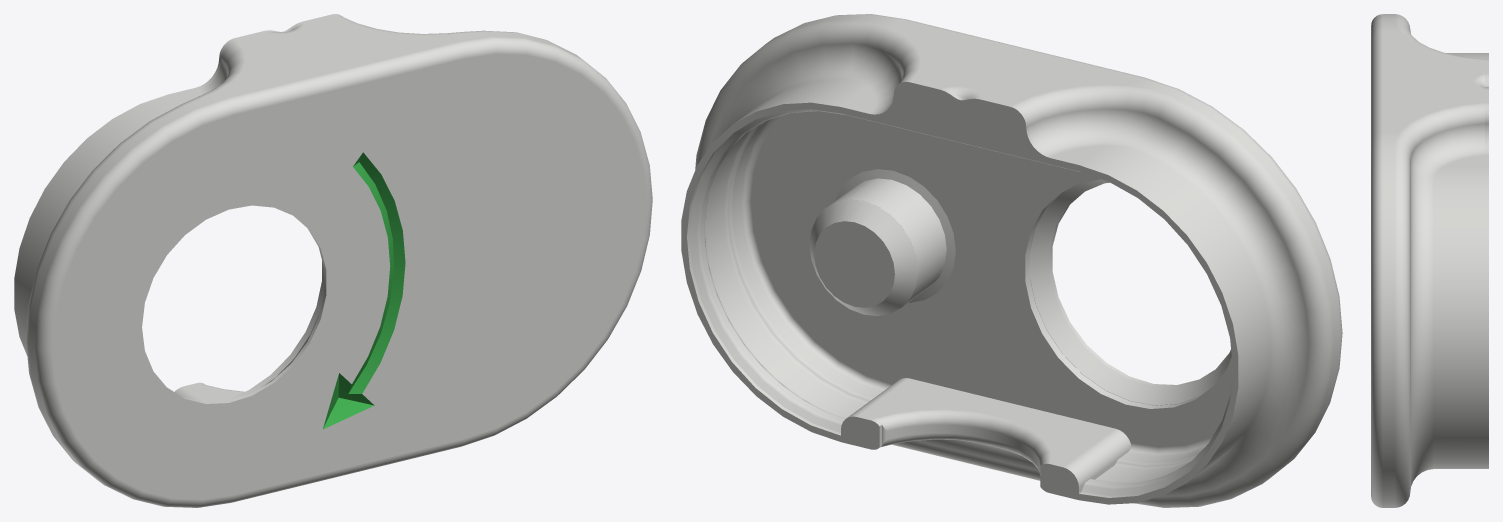
Rendered from P02 - Body Top v1.0 (0.2 Layer Height).obj.
3 renders of one model, left to right at view 1: azimuth 30°, elevation 25°; view 2: azimuth 150°, elevation 25°; view 3: azimuth 270°, elevation 25°, orthographic. The views are drawn at different scales.
Parts seen in each view (by area): view 1: Body5; view 2: Body5; view 3: Body5.
Part boxes in pixels (x1,y1,x2,y2): Body5: (14,14,652,507); Body5: (681,14,1342,507); Body5: (1371,14,1488,507).
Bounding box in the file's own units: 8.03 × 5.03 × 1.5.
